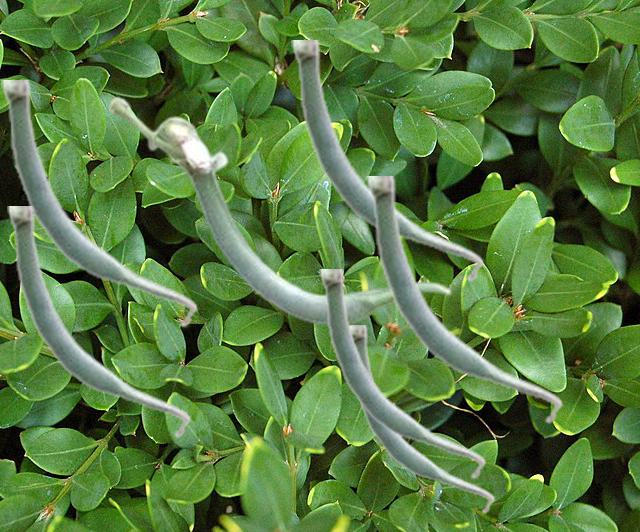french_bean: (108, 95, 451, 329), (366, 176, 562, 424), (1, 80, 197, 328), (291, 40, 483, 282), (7, 206, 190, 438), (319, 269, 485, 479), (352, 325, 494, 514)
